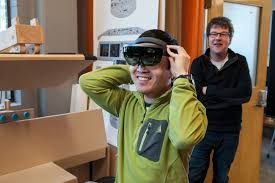hololens: (122, 39, 171, 67)
